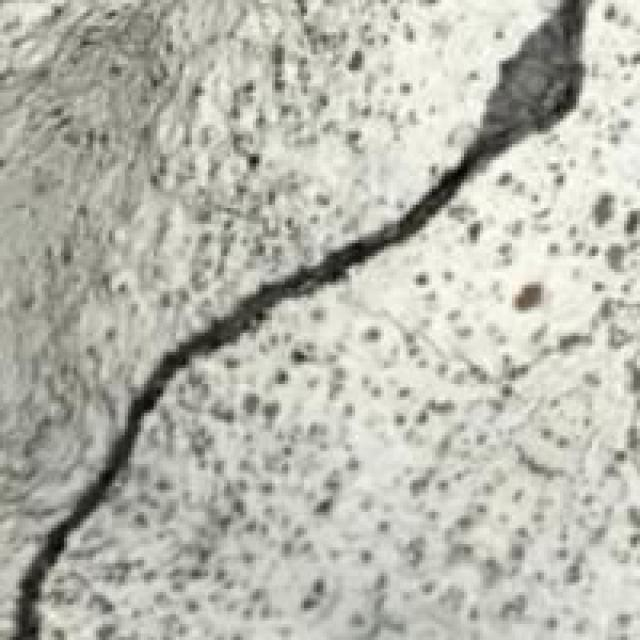Crack: (16, 0, 595, 637)
